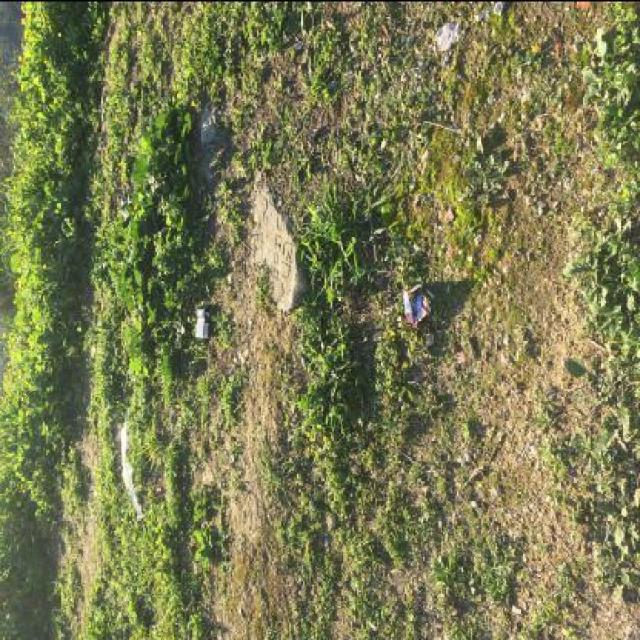cardboard: (403, 282, 431, 326), (195, 304, 210, 338)
